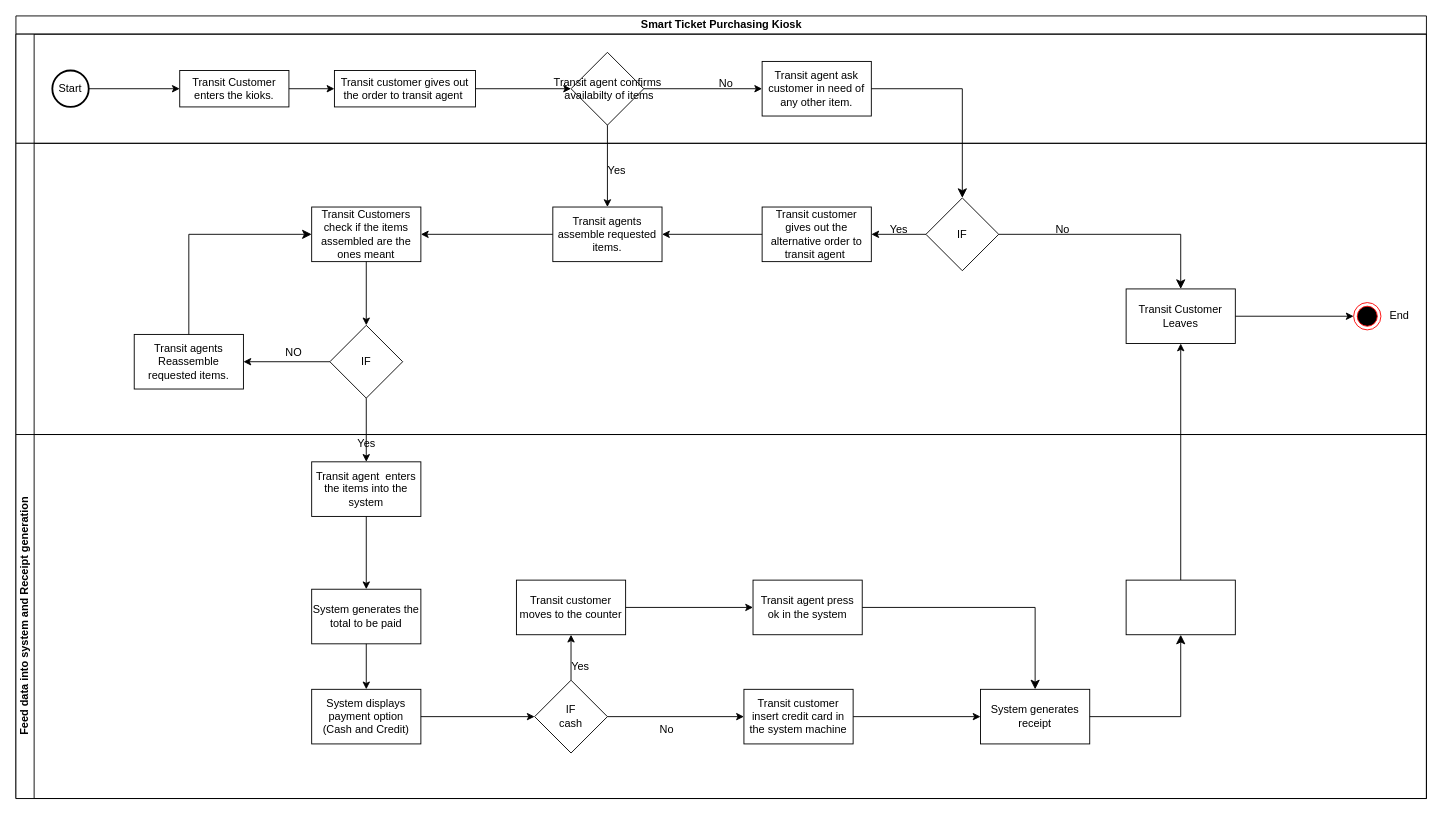
The diagram is 1442 pixels wide and 814 high, and some of its shapes have lost their labels. Each missing label, with the centre of its shape:
Assembling of customer orders and confirmation: the point at 720,288
Customer Orders: the point at 720,88
Transit agents gives out the packed items to the customer.: the point at 1180,607
